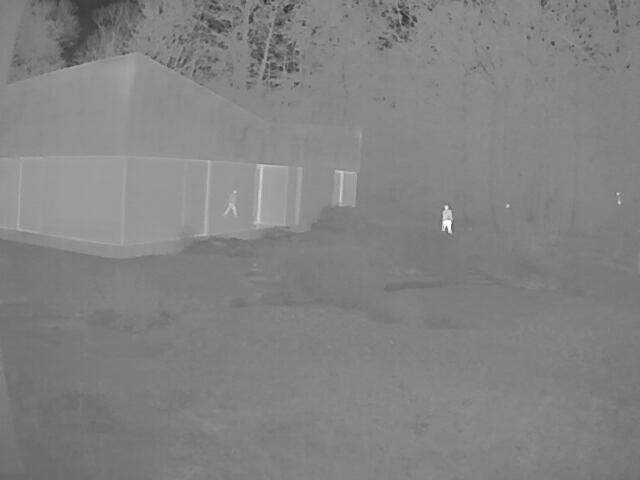person: (220, 188, 238, 217), (439, 204, 451, 233)
